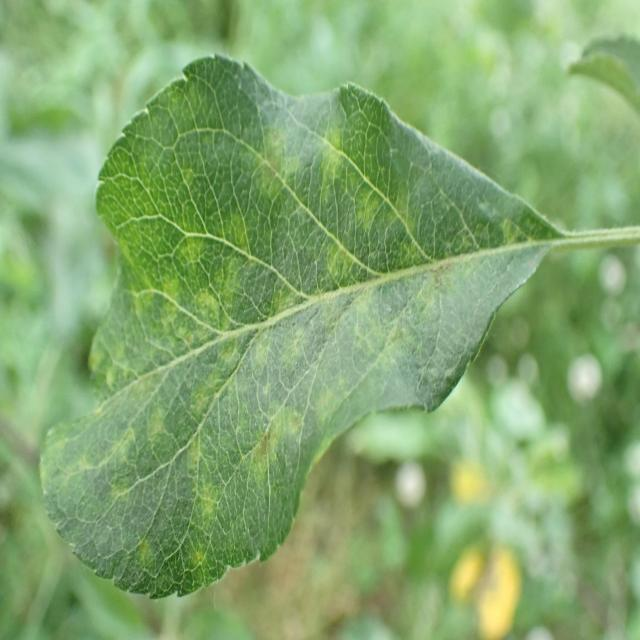scab: (64, 57, 553, 586)
